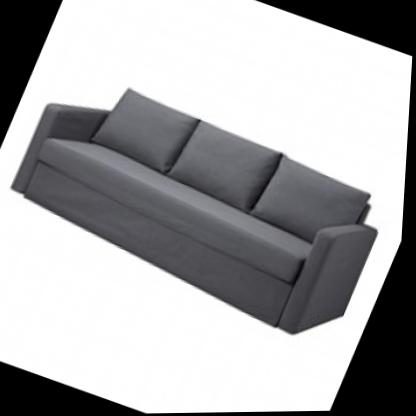Sofa: (0, 34, 414, 360)
